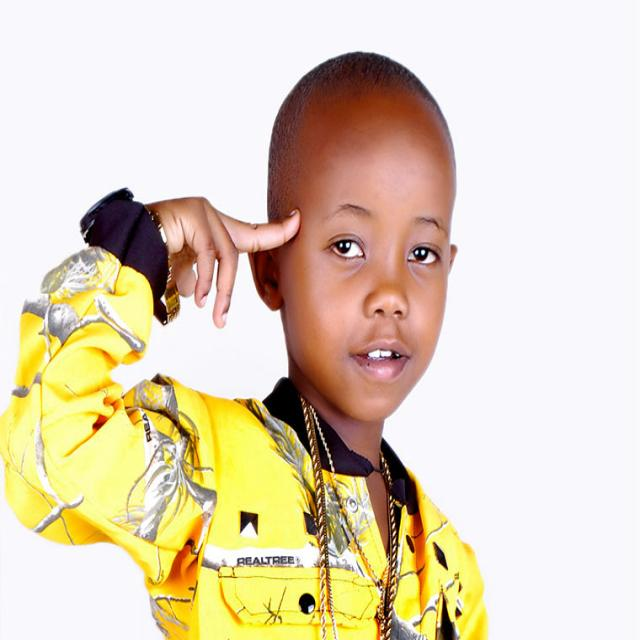child: (6, 49, 492, 640)
